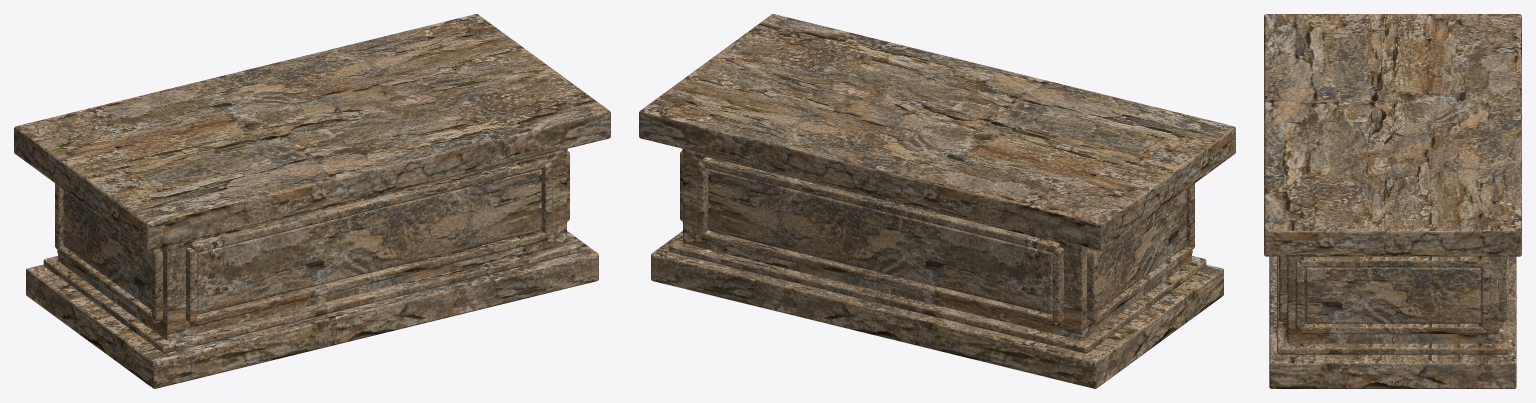
File: stone-tomb-v02.glb
3 views of the same model, side by side, from view 1: azimuth 30°, elevation 25°; view 2: azimuth 150°, elevation 25°; view 3: azimuth 270°, elevation 25° (orthographic). The views are drawn at different scales.
Visible parts, largest first — view 1: stone-tomb-v02; view 2: stone-tomb-v02; view 3: stone-tomb-v02.
Part boxes in pixels (x1,y1,x2,y2): stone-tomb-v02: (14,14,610,388); stone-tomb-v02: (639,14,1235,388); stone-tomb-v02: (1264,14,1521,388).
Size of the model in its own units: 2.5 by 0.8748 by 1.25.
Materials: 1 (1 with a texture image).
